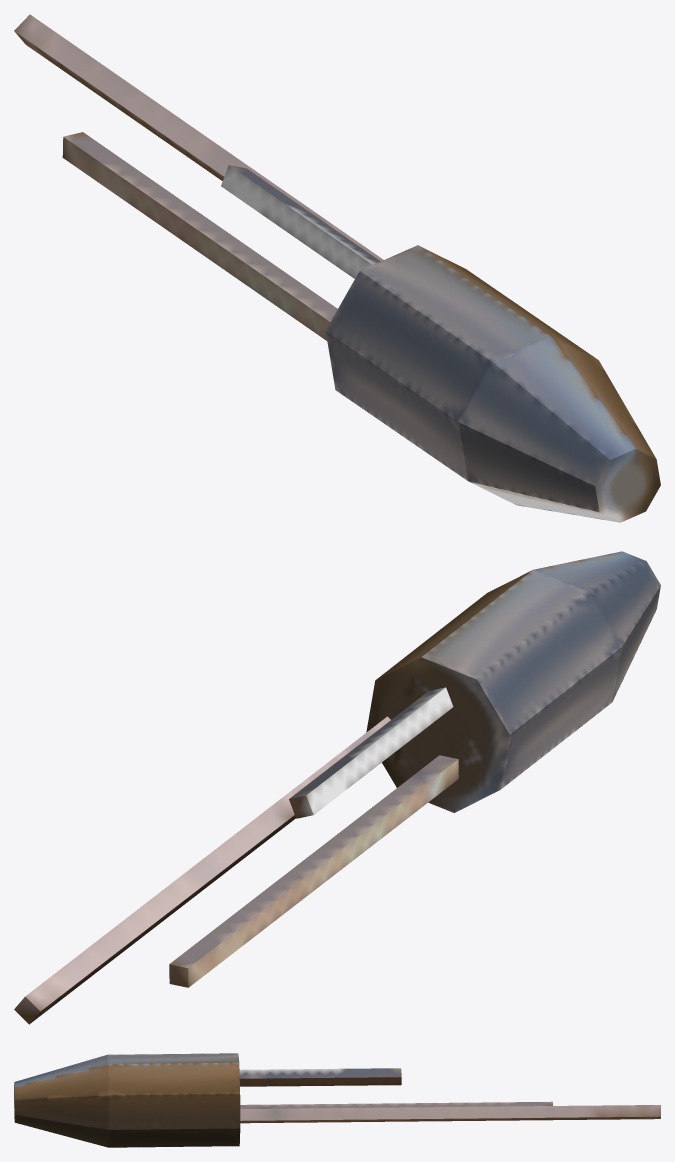
3 views of the same model, one above another, from view 1: azimuth 30°, elevation 25°; view 2: azimuth 150°, elevation 25°; view 3: azimuth 270°, elevation 25° (orthographic). The views are drawn at different scales.
Parts seen in each view (by area): view 1: Bala_Cylinder.003, Estela_3_Cube.008, Estela_1_Cube.006, Estela_2_Cube.007; view 2: Bala_Cylinder.003, Estela_3_Cube.008, Estela_1_Cube.006, Estela_2_Cube.007; view 3: Bala_Cylinder.003, Estela_1_Cube.006, Estela_2_Cube.007, Estela_3_Cube.008.
Part boxes in pixels (x1,y1,x2,y2): Bala_Cylinder.003: (325, 245, 660, 522); Estela_3_Cube.008: (62, 132, 337, 340); Estela_1_Cube.006: (14, 14, 383, 261); Estela_2_Cube.007: (221, 165, 380, 278); Bala_Cylinder.003: (366, 551, 660, 812); Estela_3_Cube.008: (169, 755, 458, 987); Estela_1_Cube.006: (14, 716, 390, 1024); Estela_2_Cube.007: (289, 687, 453, 818); Bala_Cylinder.003: (14, 1053, 240, 1147); Estela_1_Cube.006: (240, 1105, 660, 1123); Estela_2_Cube.007: (239, 1068, 401, 1086); Estela_3_Cube.008: (240, 1101, 552, 1108).
Size of what is drawn, in the model's own units: 0.2844 by 0.2735 by 1.94.
